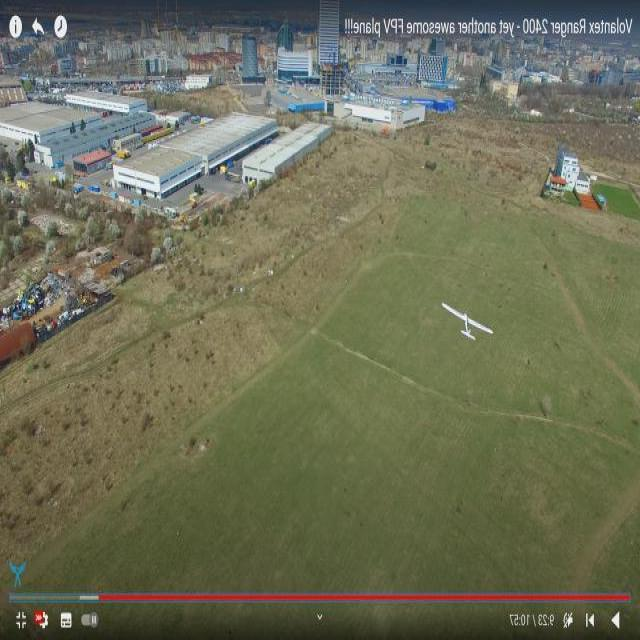UAV: (416, 294, 497, 349)
